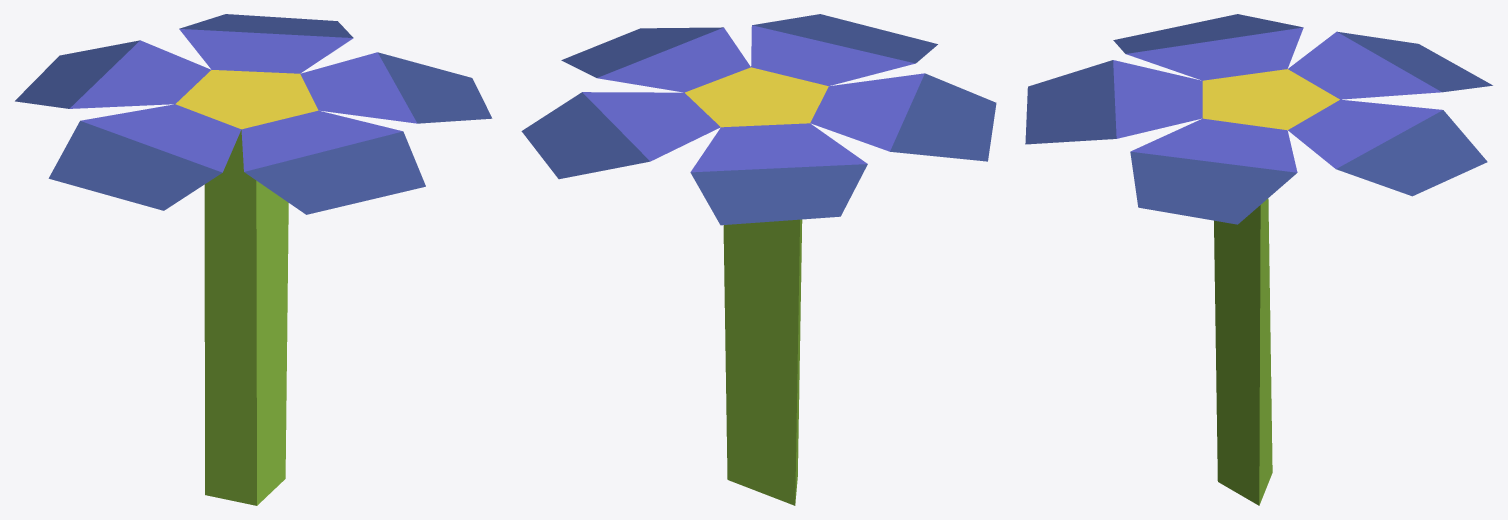
Rendered from flower_blue_flat.fbx.
3 renders of one model, left to right at view 1: azimuth 30°, elevation 25°; view 2: azimuth 150°, elevation 25°; view 3: azimuth 270°, elevation 25°, orthographic.
Visible parts, largest first — view 1: flower_blue_flat; view 2: flower_blue_flat; view 3: flower_blue_flat.
Boxes of the visible parts, left/top/right/bottom form: flower_blue_flat: left=15, top=14, right=492, bottom=505; flower_blue_flat: left=521, top=14, right=996, bottom=505; flower_blue_flat: left=1025, top=14, right=1492, bottom=505.
Bounding box in the file's own units: 14.52 × 12.8 × 13.82.
